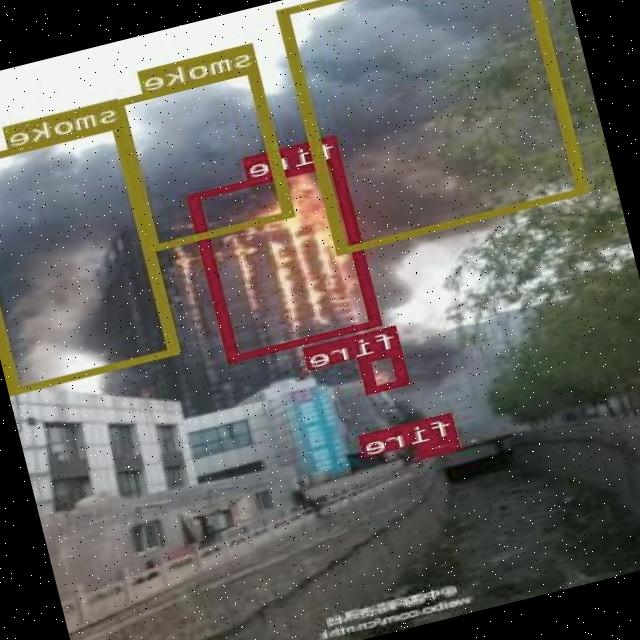fire: (190, 155, 383, 360), (359, 346, 412, 392), (418, 432, 462, 457)
smoke: (278, 0, 590, 253), (0, 118, 181, 392), (114, 62, 296, 250)
